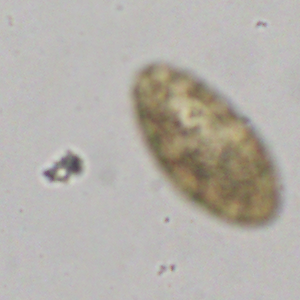Fasciola_hepatica_egg: (133, 59, 284, 228)
